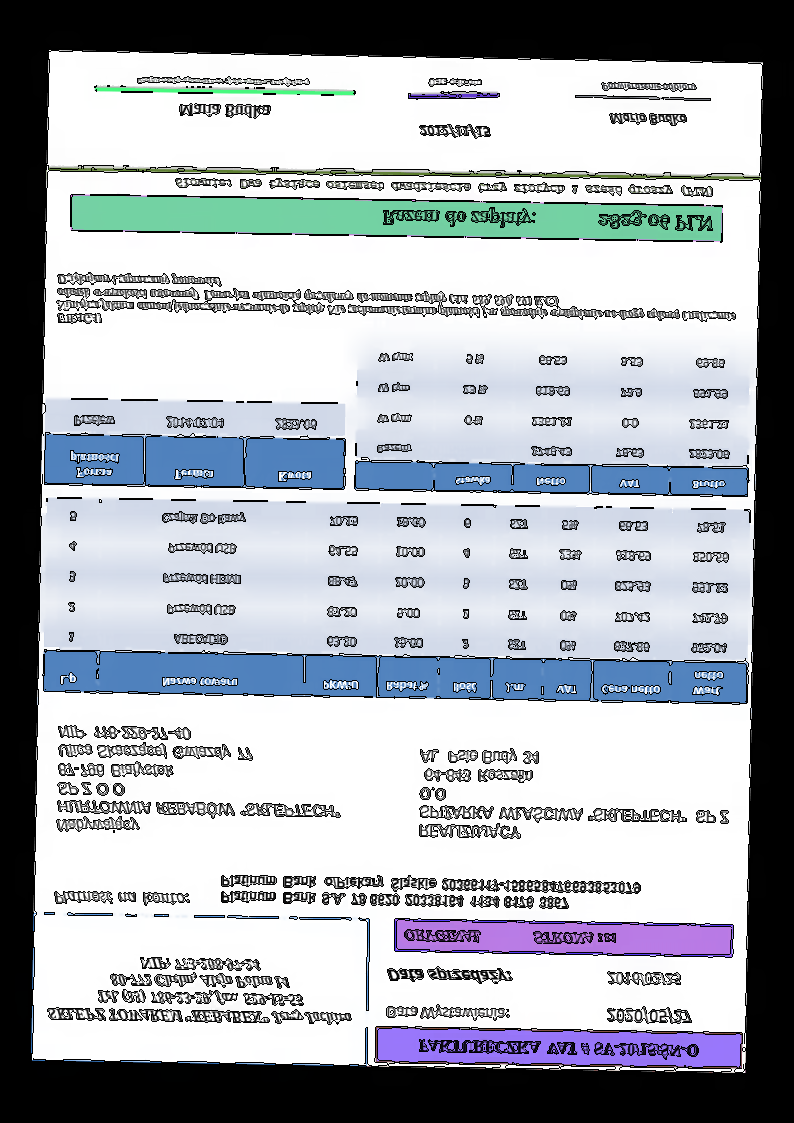Table: (41, 494, 752, 707), (351, 336, 752, 499), (43, 396, 348, 492)
TextBox: (55, 270, 738, 339), (55, 723, 345, 840), (416, 748, 733, 845), (44, 949, 353, 1030), (219, 869, 645, 914), (170, 175, 715, 200), (378, 202, 715, 237), (417, 1034, 706, 1064), (401, 926, 619, 948), (52, 888, 190, 909), (133, 75, 315, 90), (382, 1004, 512, 1024), (384, 965, 514, 984), (604, 1004, 694, 1028), (175, 101, 274, 121), (600, 79, 699, 96), (606, 110, 690, 128), (416, 123, 494, 141), (606, 971, 683, 988), (425, 75, 486, 91)
